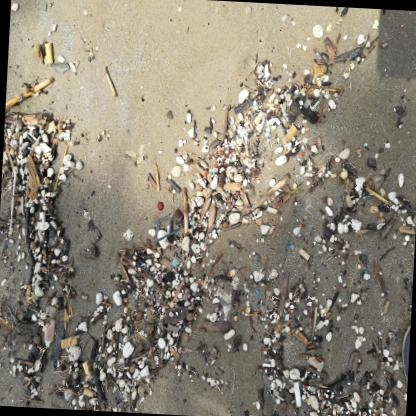Paper: (9, 171, 16, 227), (82, 360, 93, 381), (61, 336, 76, 349), (44, 42, 52, 63), (39, 212, 45, 231), (82, 388, 93, 397)
Plastic: (44, 320, 55, 341), (293, 381, 301, 407), (171, 255, 180, 268), (311, 100, 319, 109), (101, 380, 105, 385), (304, 126, 309, 130), (256, 289, 259, 294), (187, 293, 190, 298), (287, 242, 290, 246), (140, 260, 142, 263)
Waste: (154, 214, 180, 241)
